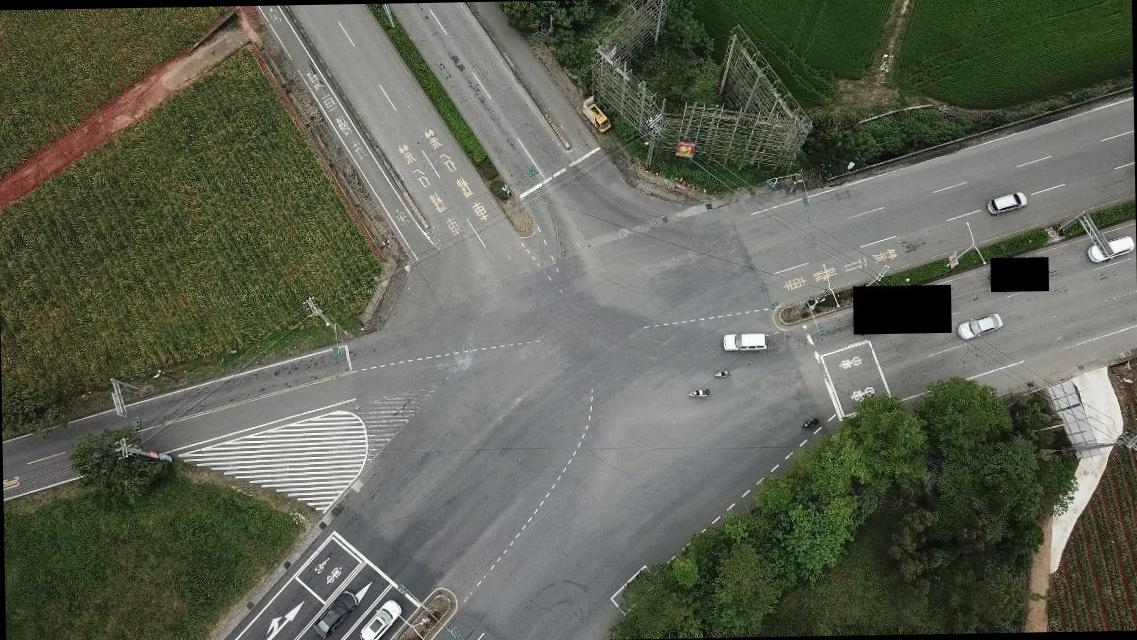vehicle: (312, 588, 358, 640), (356, 598, 402, 639), (1087, 234, 1134, 264), (957, 314, 1005, 341), (720, 330, 774, 352), (985, 191, 1026, 216), (587, 105, 612, 134)
